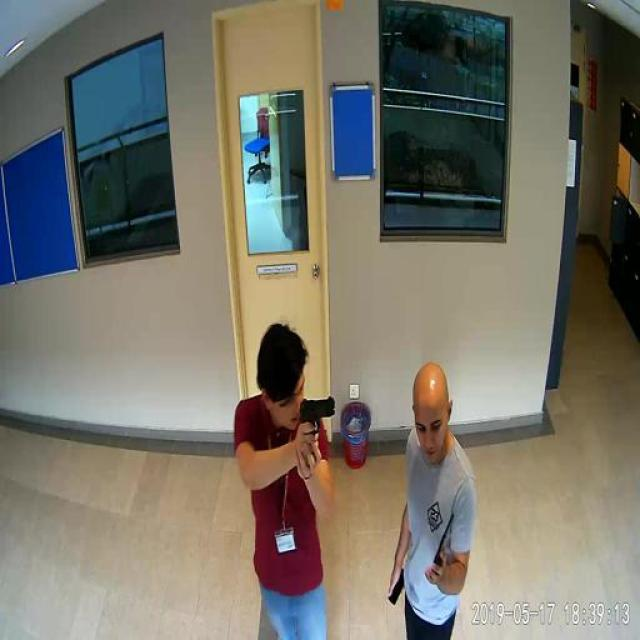Gun: (296, 390, 352, 444)
